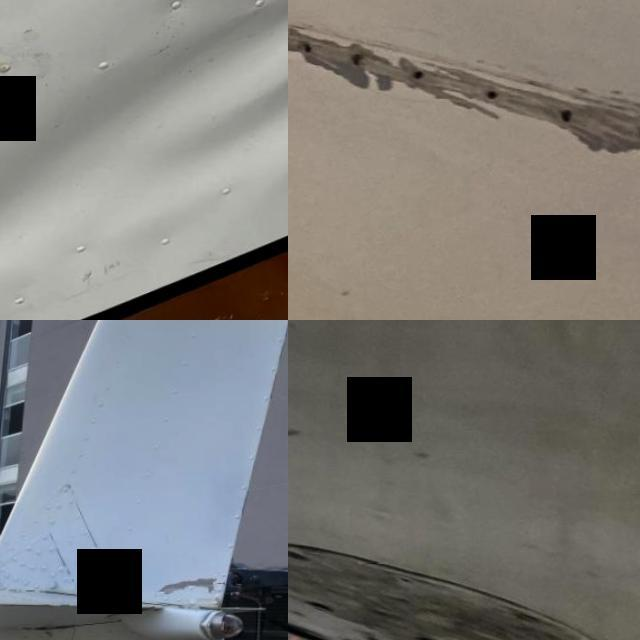Crack: (216, 584, 228, 588)
Dent: (0, 0, 288, 254)
Missing_Fastener: (483, 88, 512, 105), (558, 108, 582, 128), (409, 68, 433, 86)
